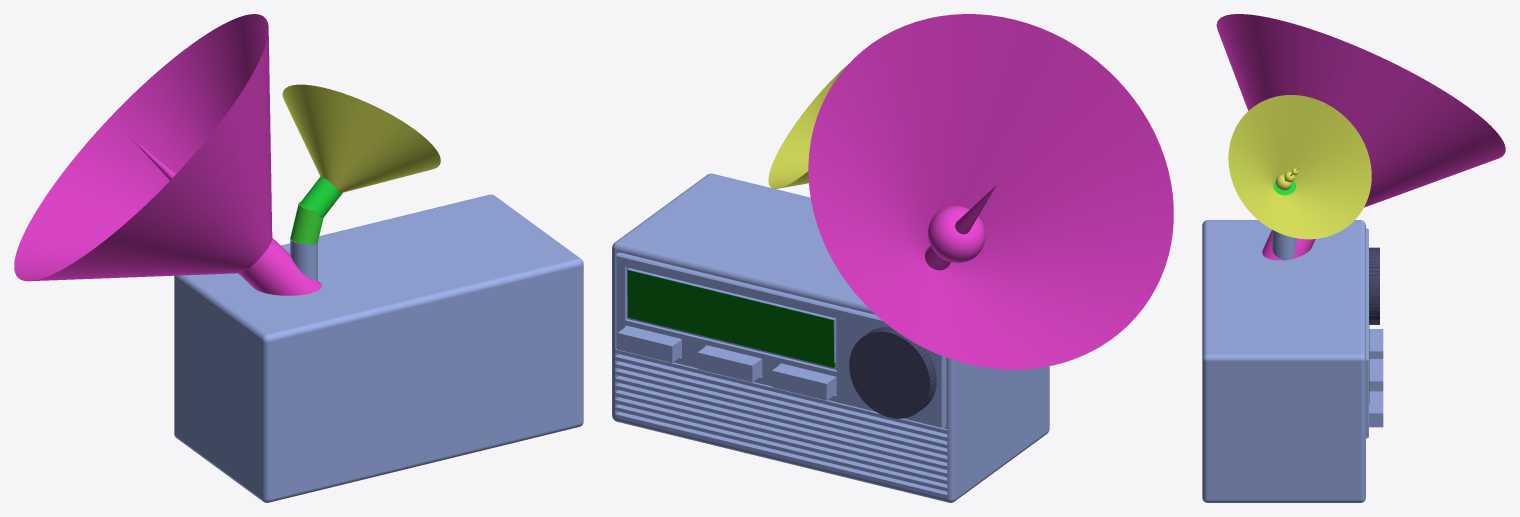
The model's file is radio.fbx.
3 views of the same model, side by side, from view 1: azimuth 30°, elevation 25°; view 2: azimuth 150°, elevation 25°; view 3: azimuth 270°, elevation 25° (orthographic). The views are drawn at different scales.
Visible parts, largest first — view 1: radio_body, big_antenna, small_antenna, small_part, small_part2; view 2: big_antenna, radio_body, display, radio_wheel, small_antenna; view 3: radio_body, big_antenna, small_antenna, radio_wheel.
Part boxes in pixels (x1=…): radio_body: x1=174, y1=194, x2=583, y2=502; big_antenna: x1=14, y1=14, x2=321, y2=295; small_antenna: x1=282, y1=84, x2=440, y2=192; small_part: x1=290, y1=202, x2=323, y2=245; small_part2: x1=299, y1=176, x2=342, y2=217; big_antenna: x1=808, y1=14, x2=1173, y2=369; radio_body: x1=612, y1=173, x2=1049, y2=502; display: x1=627, y1=270, x2=835, y2=367; radio_wheel: x1=849, y1=327, x2=936, y2=418; small_antenna: x1=768, y1=64, x2=848, y2=188; radio_body: x1=1202, y1=220, x2=1383, y2=502; big_antenna: x1=1216, y1=14, x2=1505, y2=260; small_antenna: x1=1228, y1=95, x2=1371, y2=239; radio_wheel: x1=1369, y1=247, x2=1379, y2=324.
Size of the model in its own units: 200 by 165 by 124.
